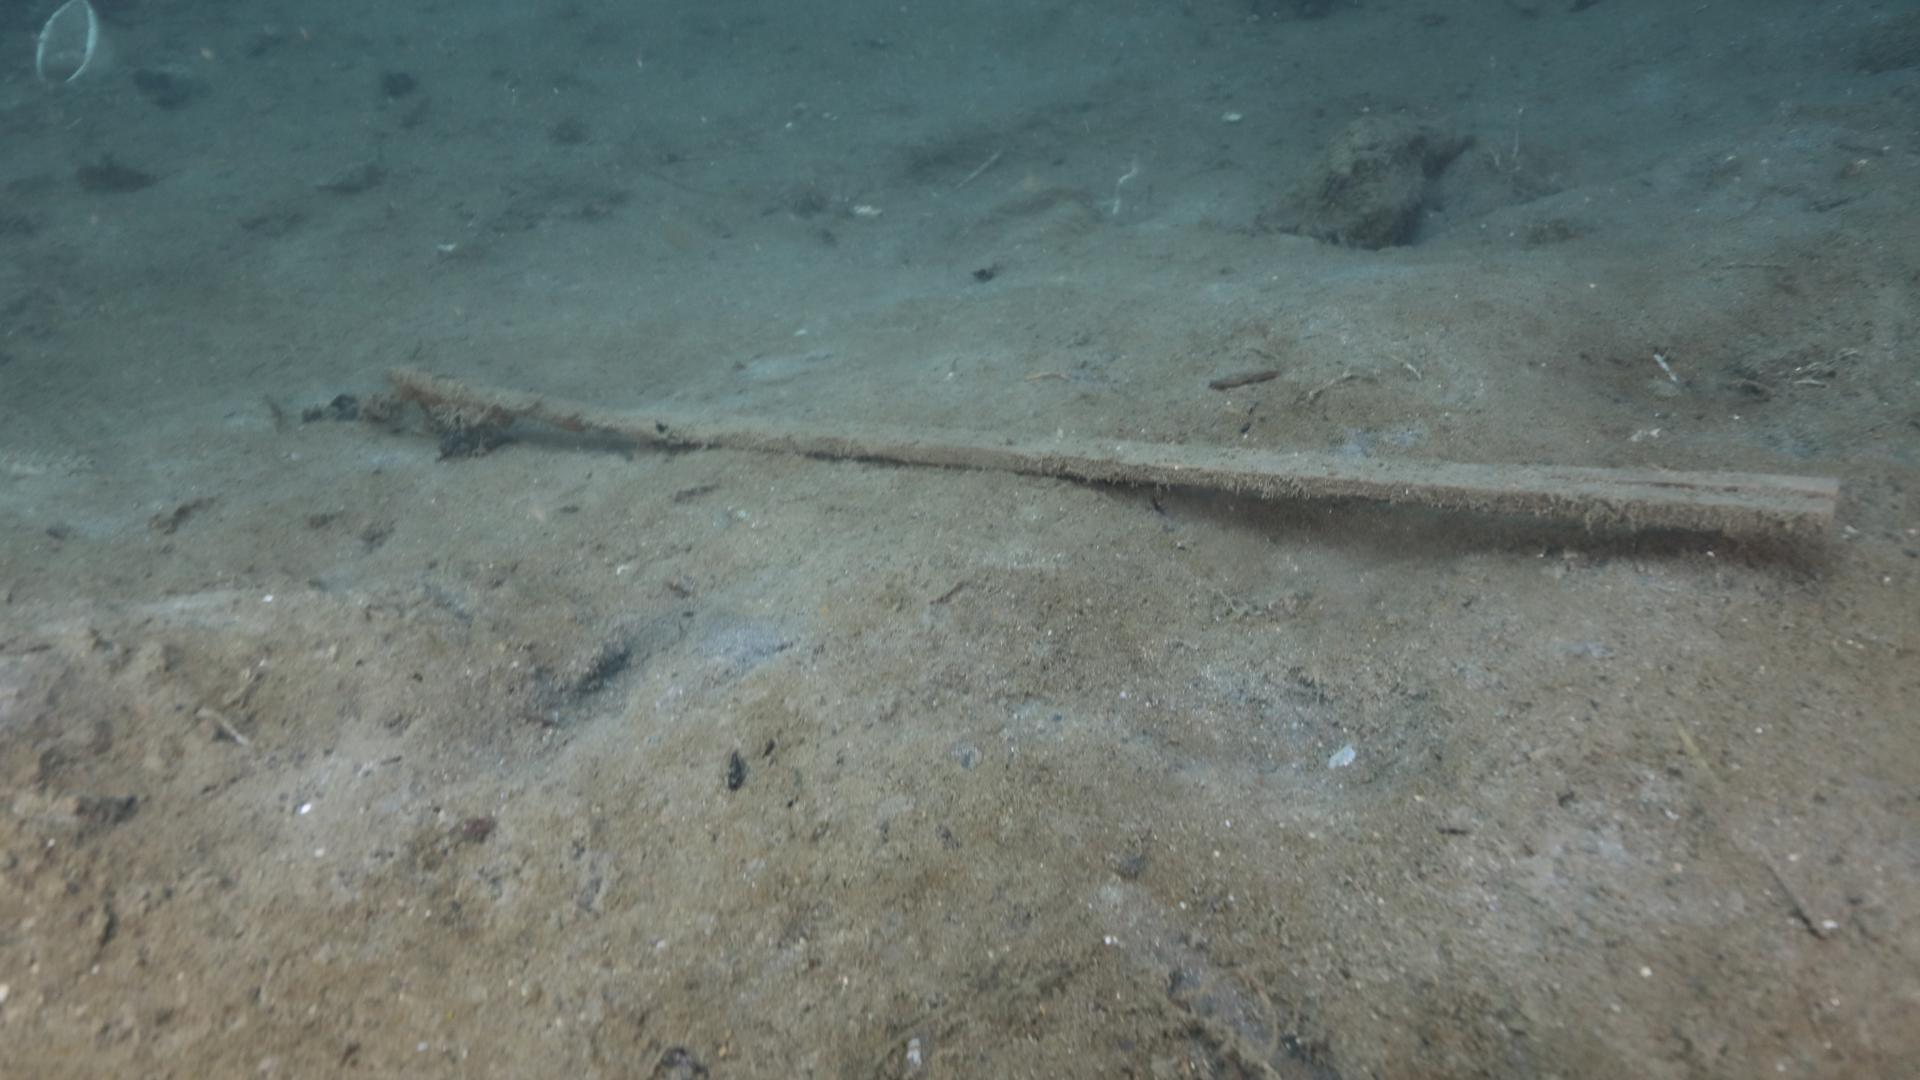wood: (384, 360, 1840, 539)
